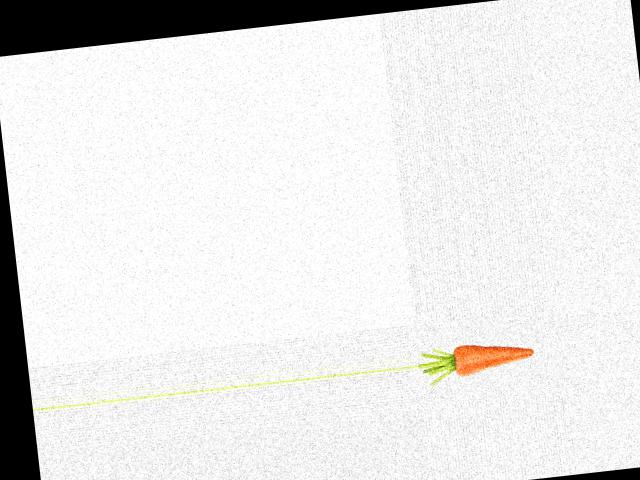carrot: (446, 335, 538, 382)
